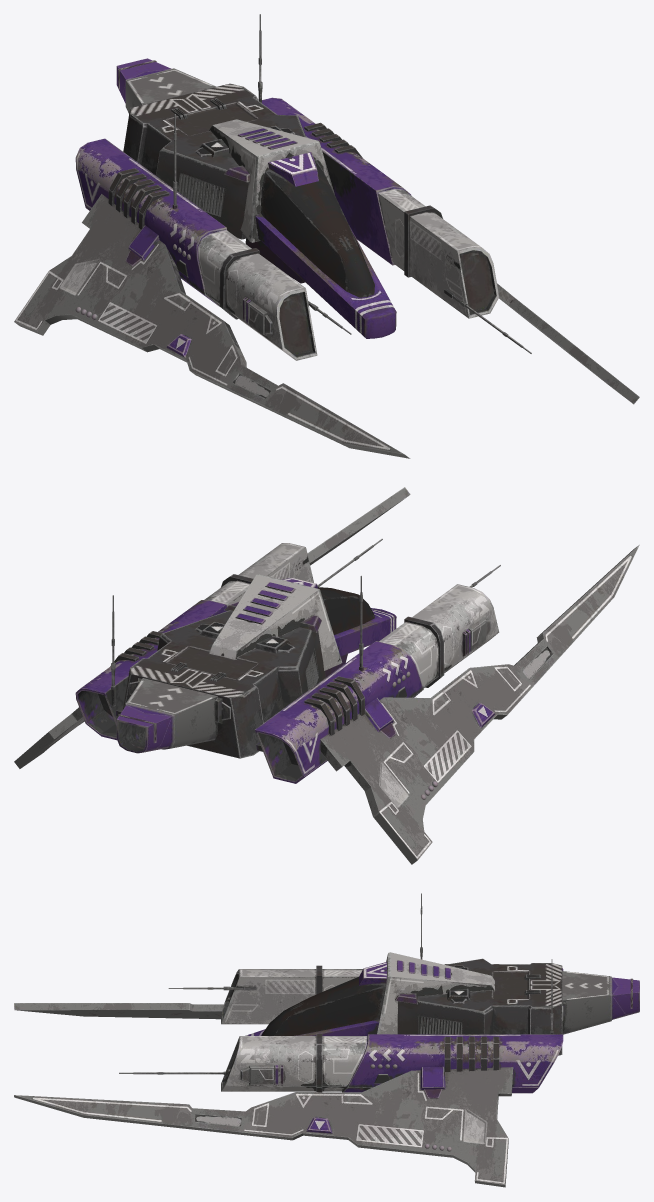
The model's file is striker_purple.glb.
The picture shows the model from 3 angles, top to bottom: view 1: azimuth 30°, elevation 25°; view 2: azimuth 150°, elevation 25°; view 3: azimuth 270°, elevation 25°; orthographic projection. The views are drawn at different scales.
Parts seen in each view (by area): view 1: striker; view 2: striker; view 3: striker.
Part boxes in pixels (left/top/right/bottom): striker: left=14, top=14, right=639, bottom=458; striker: left=14, top=487, right=639, bottom=864; striker: left=14, top=893, right=639, bottom=1187.
Size of the model in its own units: 5.03 by 2.68 by 8.43.
1 material, 1 textured.
